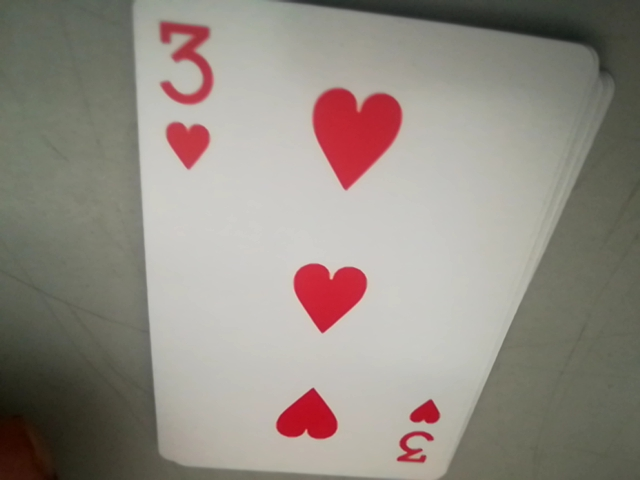hx 3: (158, 19, 214, 170), (391, 404, 447, 477)
